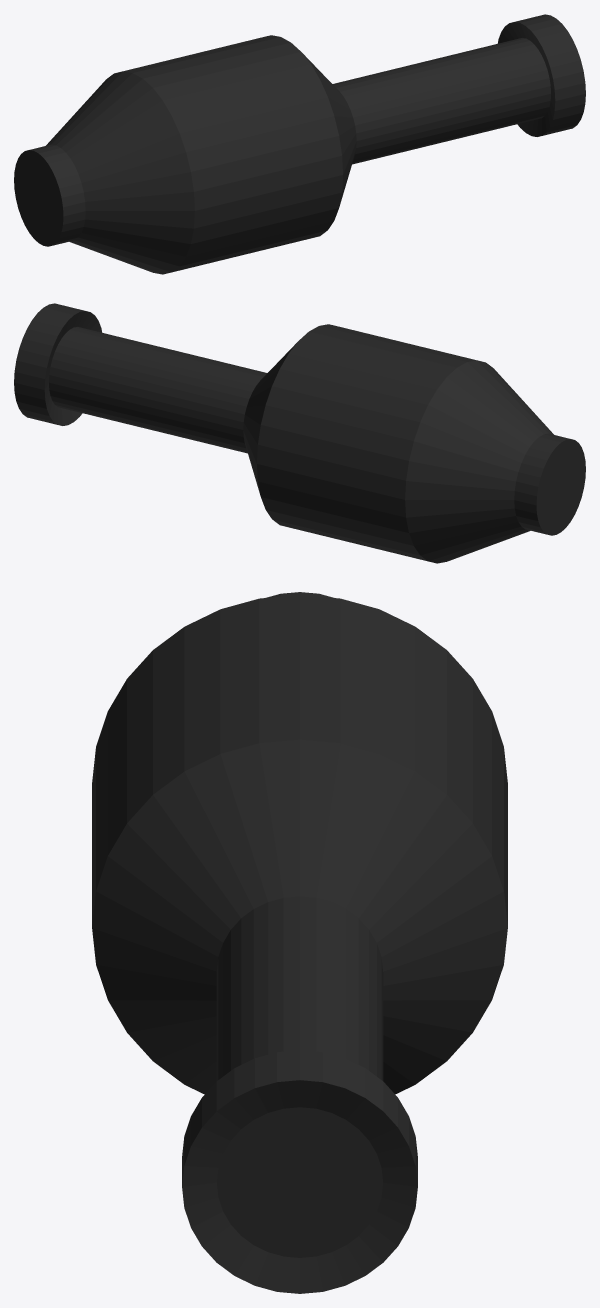
Rendered from Rocket.glb.
The picture shows the model from 3 angles, top to bottom: view 1: azimuth 30°, elevation 25°; view 2: azimuth 150°, elevation 25°; view 3: azimuth 270°, elevation 25°; orthographic projection. The views are drawn at different scales.
Parts seen in each view (by area): view 1: Cylinder; view 2: Cylinder; view 3: Cylinder.
Boxes of the visible parts, left/top/right/bottom form: Cylinder: left=14, top=14, right=585, bottom=274; Cylinder: left=14, top=303, right=585, bottom=563; Cylinder: left=92, top=592, right=507, bottom=1293.
Size of the model in its own units: 5.75 by 2 by 2.
1 material, 1 textured.
